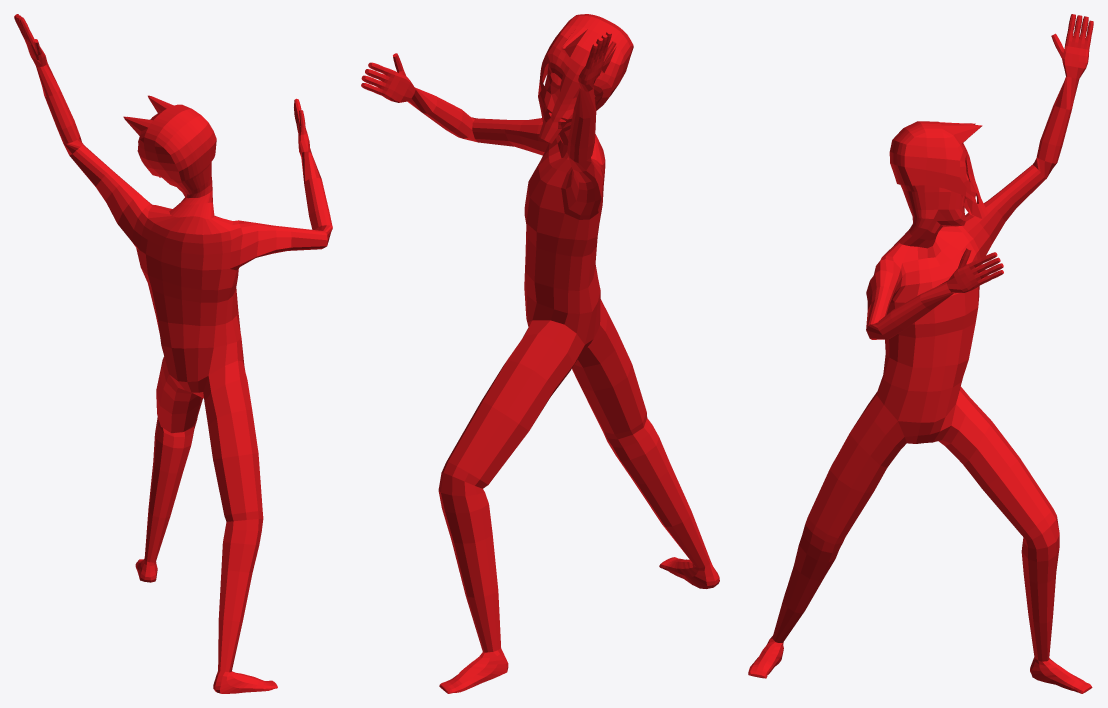
The model's file is activaAlarma_000185.obj.
3 renders of one model, left to right at view 1: azimuth 30°, elevation 25°; view 2: azimuth 150°, elevation 25°; view 3: azimuth 270°, elevation 25°, orthographic. The views are drawn at different scales.
Visible parts, largest first — view 1: Plane.002_Plane.001; view 2: Plane.002_Plane.001; view 3: Plane.002_Plane.001.
Part boxes in pixels (box(x1,y1,x2,y2)): Plane.002_Plane.001: box(14, 14, 332, 693); Plane.002_Plane.001: box(361, 14, 719, 693); Plane.002_Plane.001: box(748, 14, 1093, 693).
Bounding box in the file's own units: 3.27 × 7.49 × 3.82.
